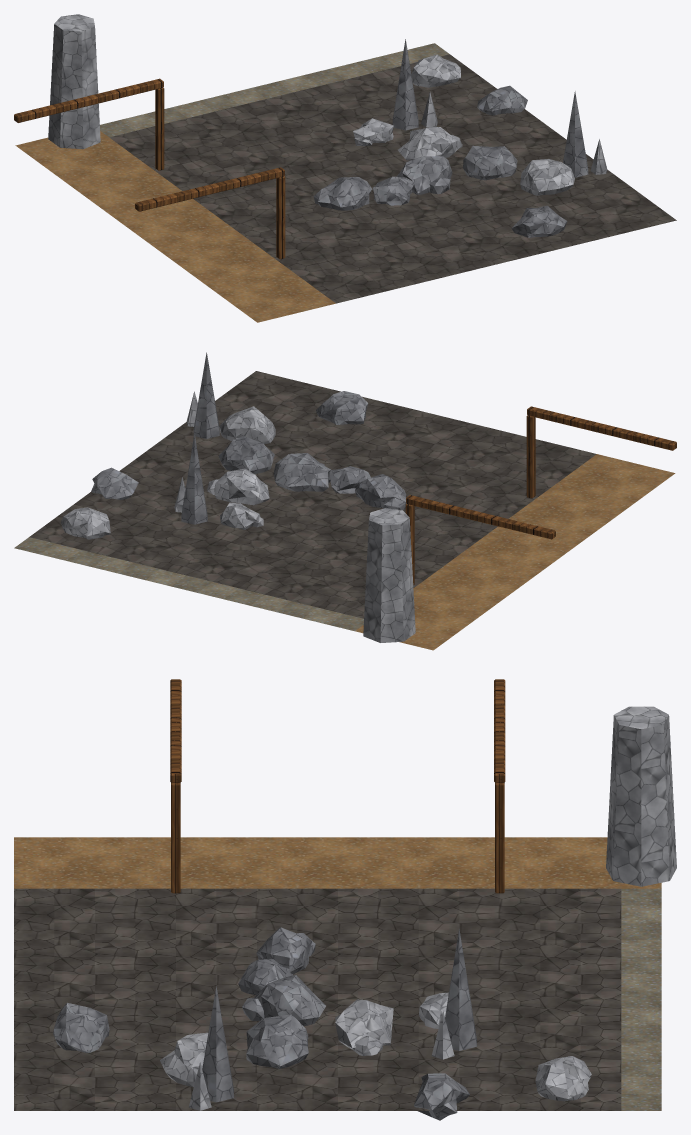
File: chunk_6_18.glb
3 views of the same model, one above another, from view 1: azimuth 30°, elevation 25°; view 2: azimuth 150°, elevation 25°; view 3: azimuth 270°, elevation 25° (orthographic). The views are drawn at different scales.
Parts seen in each view (by area): view 1: chunk_6_18; view 2: chunk_6_18; view 3: chunk_6_18.
Part boxes in pixels (<box>): chunk_6_18: <box>14,14,676,322</box>; chunk_6_18: <box>14,352,676,650</box>; chunk_6_18: <box>14,679,676,1120</box>.
Size of the model in its own units: 18.59 by 4.79 by 16.38.
Materials: 8 (8 with a texture image).
